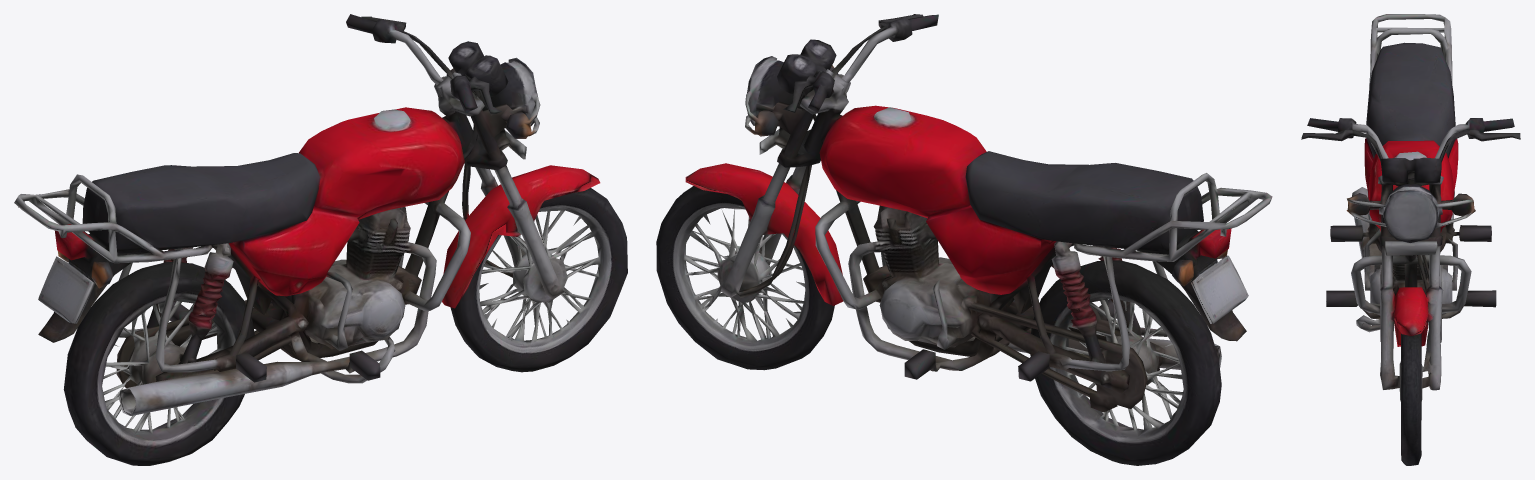
The model's file is okada_motorbike.glb.
The picture shows the model from 3 angles, left to right: view 1: azimuth 30°, elevation 25°; view 2: azimuth 150°, elevation 25°; view 3: azimuth 270°, elevation 25°; orthographic projection. The views are drawn at different scales.
Visible parts, largest first — view 1: tripo_node_564d9aa5-5172-47cb-bf7d-3bdc5302bd5e; view 2: tripo_node_564d9aa5-5172-47cb-bf7d-3bdc5302bd5e; view 3: tripo_node_564d9aa5-5172-47cb-bf7d-3bdc5302bd5e.
Boxes of the visible parts, x1,y1,x2,y2 form: tripo_node_564d9aa5-5172-47cb-bf7d-3bdc5302bd5e: (14,14,627,465); tripo_node_564d9aa5-5172-47cb-bf7d-3bdc5302bd5e: (656,14,1272,465); tripo_node_564d9aa5-5172-47cb-bf7d-3bdc5302bd5e: (1301,14,1520,465).
Bounding box in the file's own units: 1 × 0.5588 × 0.3774.
Materials: 1 (1 with a texture image).
